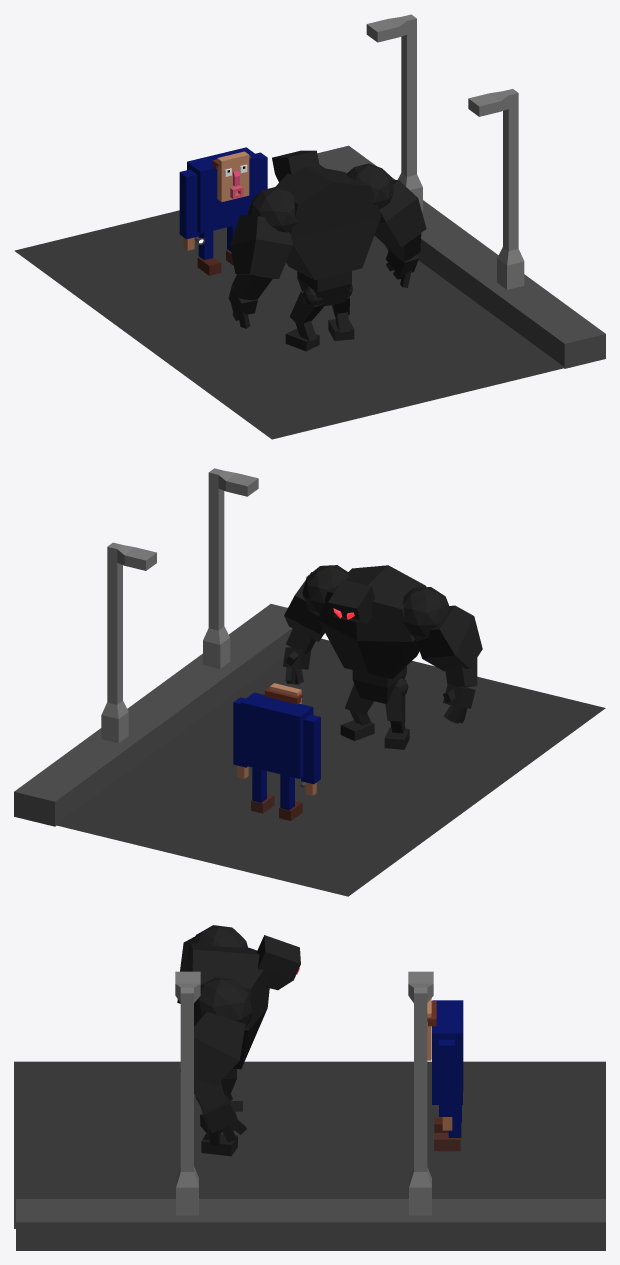
The model's file is old_men_and_the_monster1.glb.
The picture shows the model from 3 angles, top to bottom: view 1: azimuth 30°, elevation 25°; view 2: azimuth 150°, elevation 25°; view 3: azimuth 270°, elevation 25°; orthographic projection. The views are drawn at different scales.
Parts seen in each view (by area): view 1: Prostokąt, Kostka.022, Kostka.012, Kostka.013, Kostka.023, Kostka.025, Cube, Kula ico.001, Cube.002, Kostka.014, Kostka.008, Cube.001 (+4 smaller); view 2: Prostokąt, Kostka.022, Kostka.012, Cube, Kostka.023, Kostka.025, Kostka.013, Kula ico.001, Cube.002, Kostka.020, Kostka.014, Kostka.008 (+3 smaller); view 3: Prostokąt, Kostka.022, Kostka.023, Kostka.025, Kostka.012, Kostka.013, Kula ico.001, Cube, Kostka.020, Cube.002, Kostka.015, Kostka.014 (+2 smaller).
Boxes of the visible parts, left/top/right/bottom form: Prostokąt: left=14, top=187, right=570, bottom=439; Kostka.022: left=317, top=145, right=605, bottom=368; Kostka.012: left=275, top=166, right=381, bottom=280; Kostka.013: left=230, top=179, right=426, bottom=278; Kostka.023: left=468, top=89, right=524, bottom=289; Kostka.025: left=366, top=14, right=422, bottom=211; Cube: left=187, top=147, right=259, bottom=233; Kula ico.001: left=247, top=163, right=393, bottom=232; Cube.002: left=179, top=152, right=267, bottom=239; Kostka.014: left=232, top=233, right=421, bottom=300; Kostka.008: left=297, top=271, right=351, bottom=306; Cube.001: left=217, top=151, right=249, bottom=201; Prostokąt: left=55, top=638, right=605, bottom=896; Kostka.022: left=14, top=604, right=292, bottom=826; Kostka.012: left=318, top=565, right=426, bottom=679; Cube: left=240, top=692, right=313, bottom=778; Kostka.023: left=203, top=468, right=258, bottom=668; Kostka.025: left=101, top=542, right=156, bottom=743; Kostka.013: left=284, top=572, right=482, bottom=671; Kula ico.001: left=302, top=565, right=449, bottom=640; Cube.002: left=233, top=697, right=320, bottom=784; Kostka.020: left=328, top=579, right=374, bottom=623; Kostka.014: left=286, top=627, right=477, bottom=687; Kostka.008: left=352, top=666, right=406, bottom=703; Prostokąt: left=14, top=1061, right=605, bottom=1228; Kostka.022: left=16, top=1199, right=605, bottom=1250; Kostka.023: left=175, top=971, right=200, bottom=1215; Kostka.025: left=408, top=971, right=433, bottom=1215; Kostka.012: left=188, top=943, right=269, bottom=1069; Kostka.013: left=177, top=936, right=245, bottom=1085; Kula ico.001: left=188, top=925, right=251, bottom=1028; Cube: left=432, top=1000, right=463, bottom=1104; Kostka.020: left=257, top=935, right=300, bottom=990; Cube.002: left=439, top=1039, right=454, bottom=1116; Kostka.015: left=200, top=1095, right=238, bottom=1133; Kostka.014: left=194, top=1078, right=226, bottom=1110.
Size of the model in its own units: 11.26 by 6.97 by 15.03.
